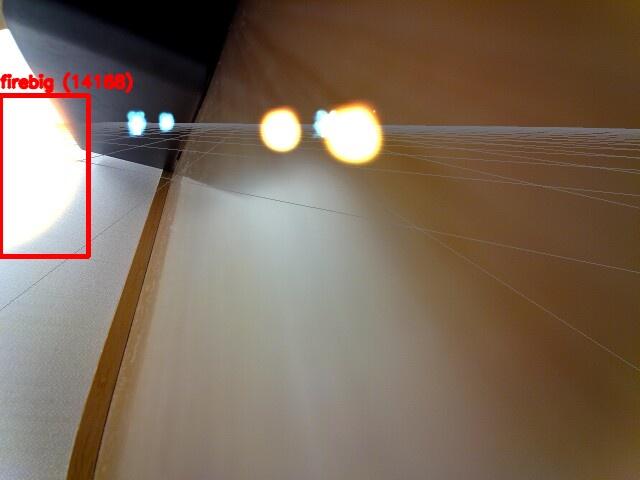firebig: (0, 95, 88, 256)
